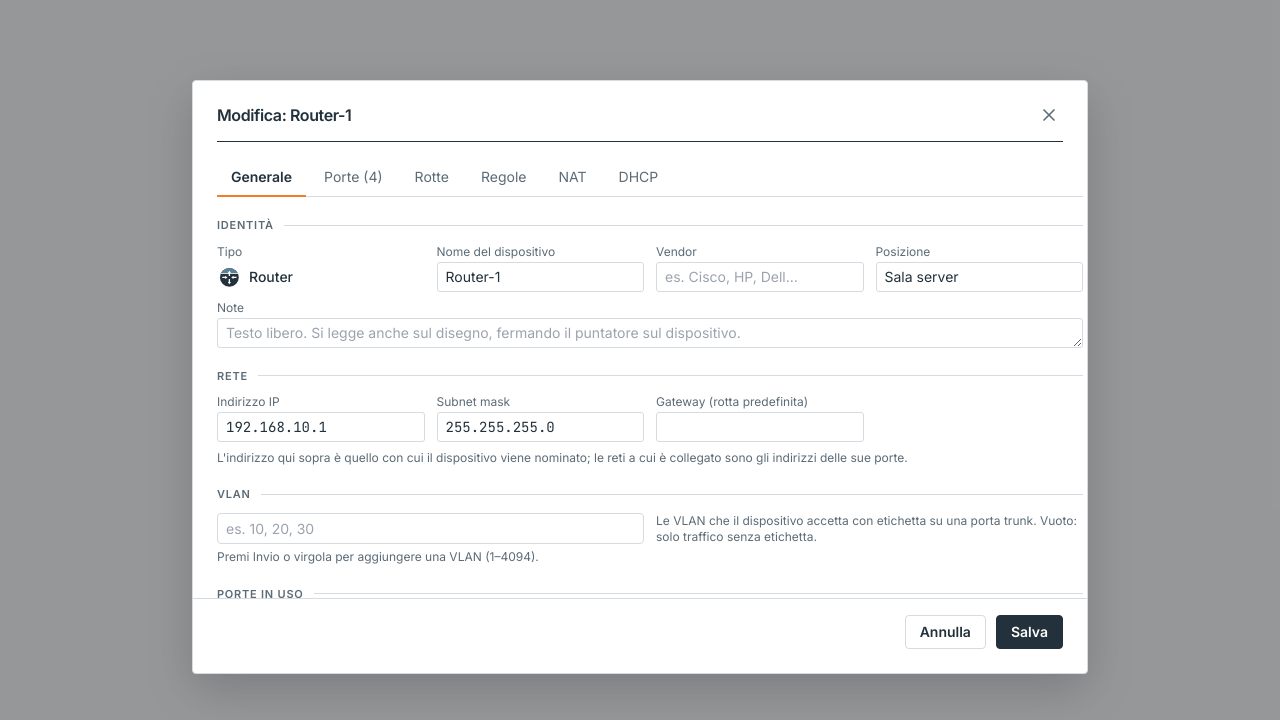
InspectorModal — Rotte › shows the routing table of the device: its two networks, nothing else
Click the button "Rotte" at (432, 178), box [401,158,463,197]
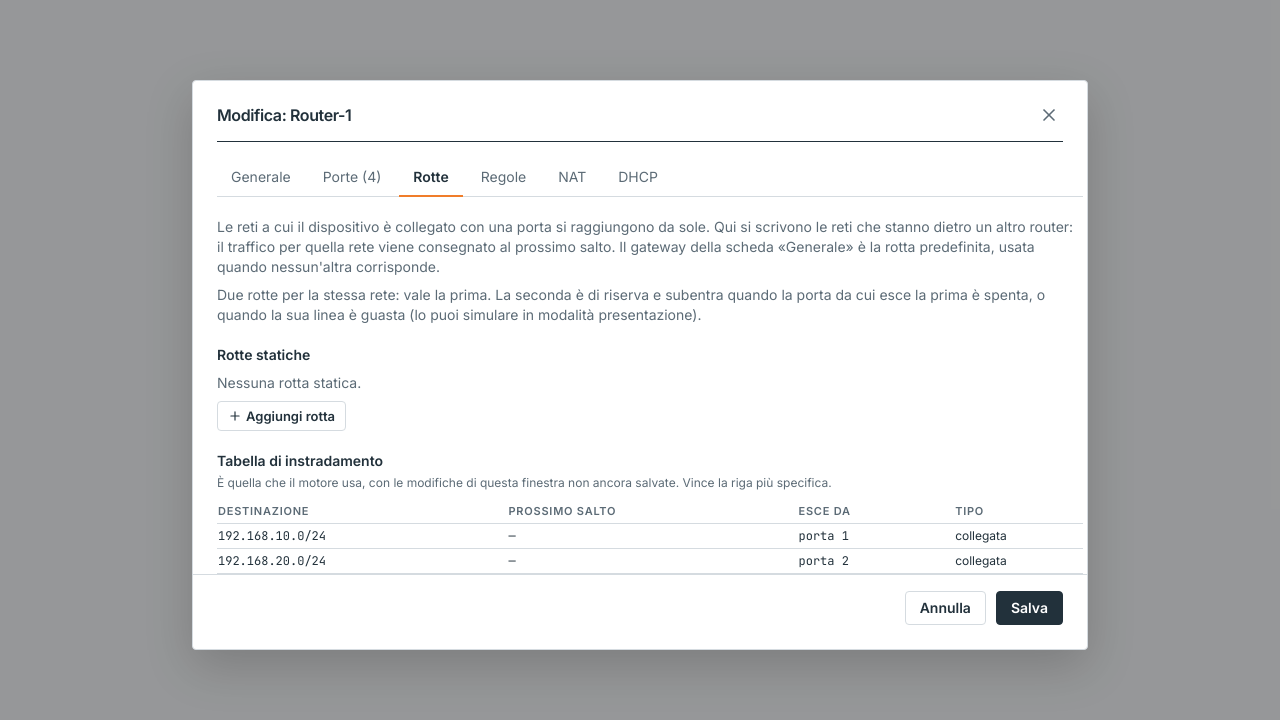
Now the text "Nessuna rotta statica." is shown, box [217,374,361,391]
